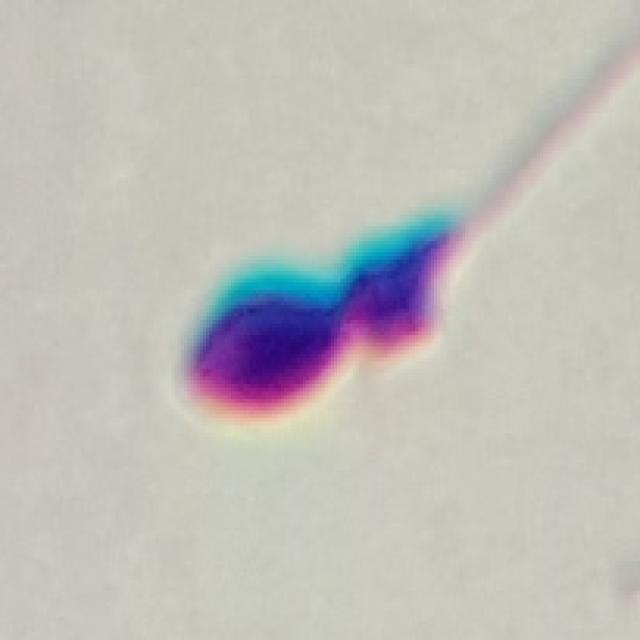abnormal sperm: (180, 57, 624, 419)
